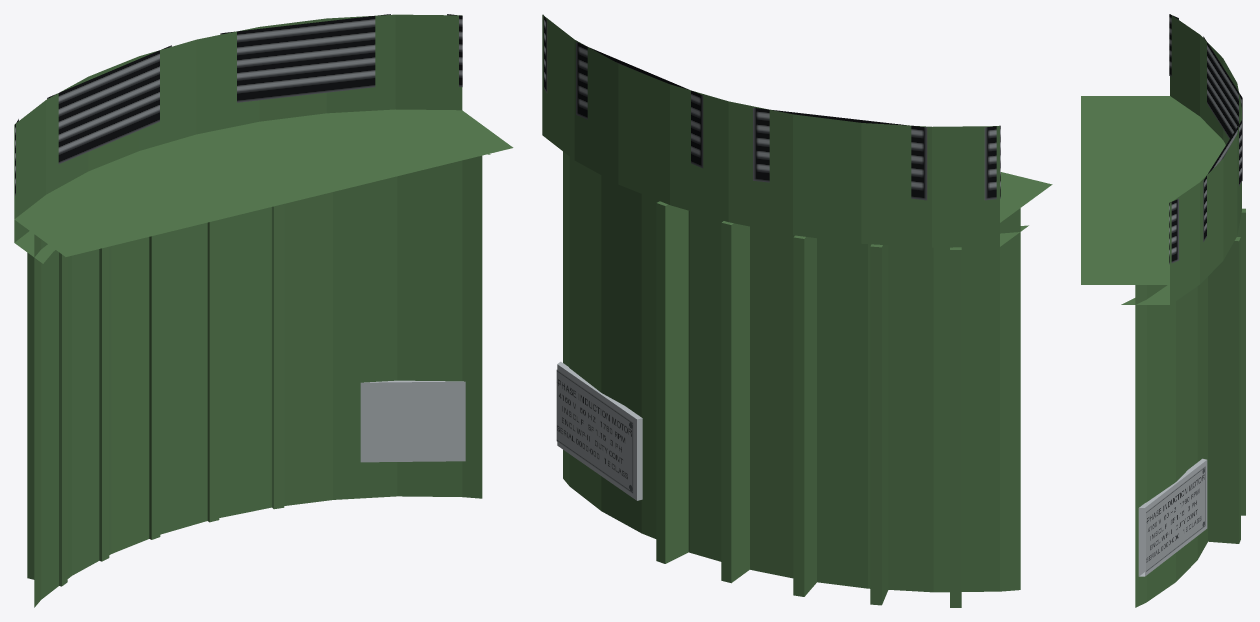
Rendered from cell_47.obj.
3 renders of one model, left to right at view 1: azimuth 30°, elevation 25°; view 2: azimuth 150°, elevation 25°; view 3: azimuth 270°, elevation 25°, orthographic. The views are drawn at different scales.
Bounding box in the file's own units: 1 × 1 × 0.3686.
